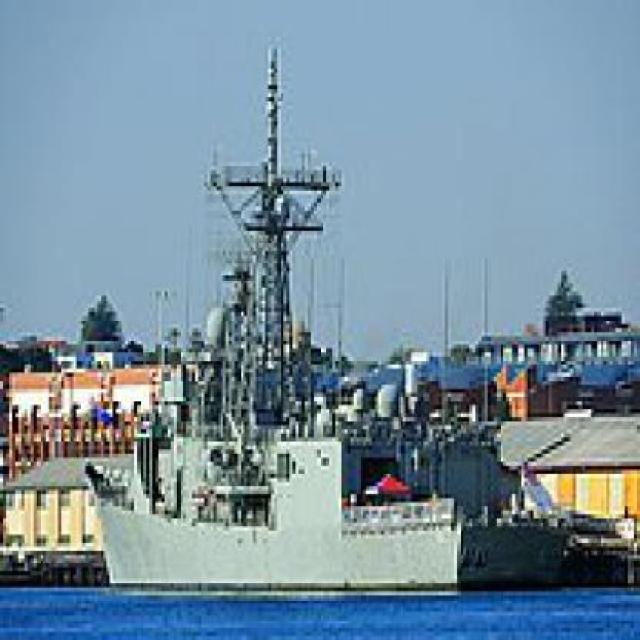warship2: (80, 33, 565, 604)
